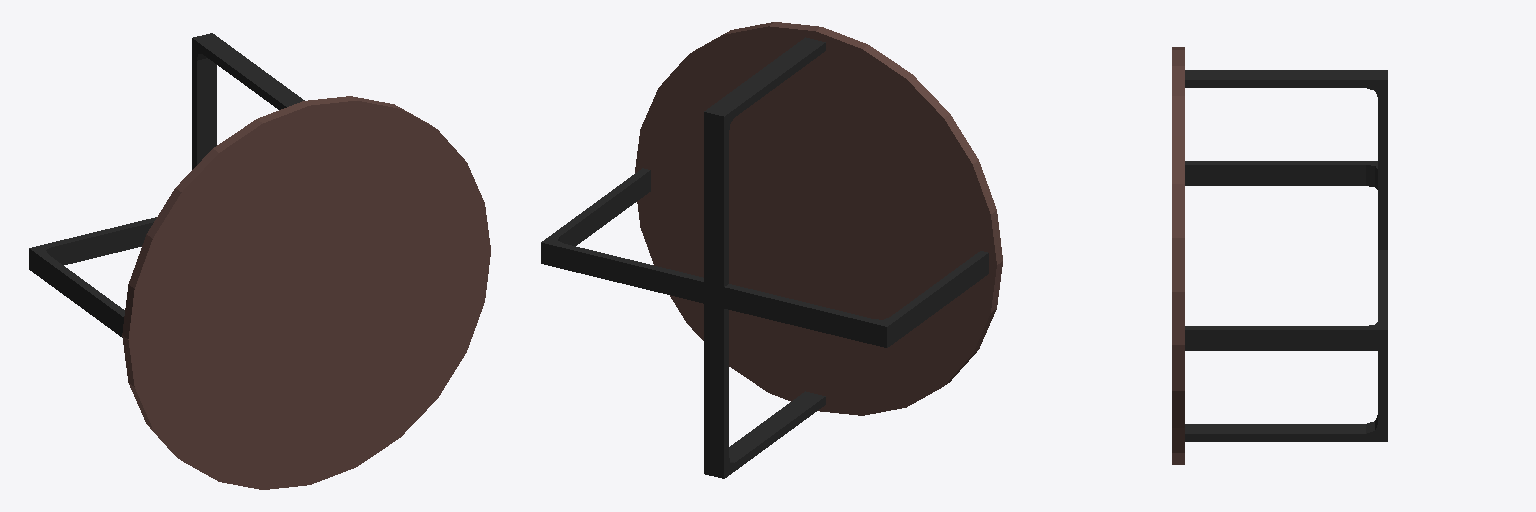
3 renders of one model, left to right at view 1: azimuth 30°, elevation 25°; view 2: azimuth 150°, elevation 25°; view 3: azimuth 270°, elevation 25°, orthographic.
Visible parts, largest first — view 1: CoffeeTable; view 2: CoffeeTable; view 3: CoffeeTable.
Part boxes in pixels (x1,y1,x2,y2): CoffeeTable: (29,33,490,489); CoffeeTable: (541,22,1002,478); CoffeeTable: (1172,47,1387,464).
Size of the model in its own units: 88.85 by 88.85 by 45.69.
1 materials, 1 textured.